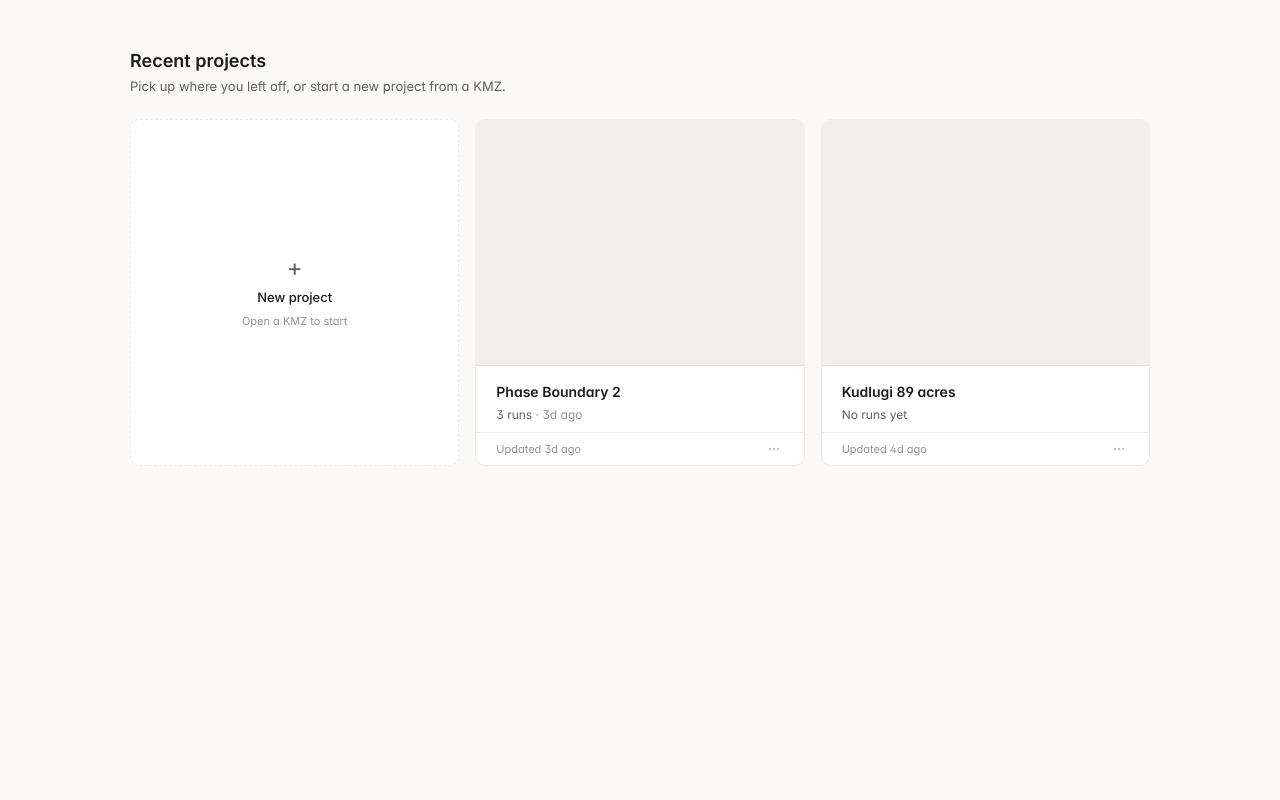
RecentsView › SP3 — ⋯ menu + Rename / Delete dialogs › ⋯ → Rename opens the Rename dialog with the current name pre-filled
Click the button named "More actions for Phase Boundary 2" at (774, 449), box [764, 439, 784, 459]
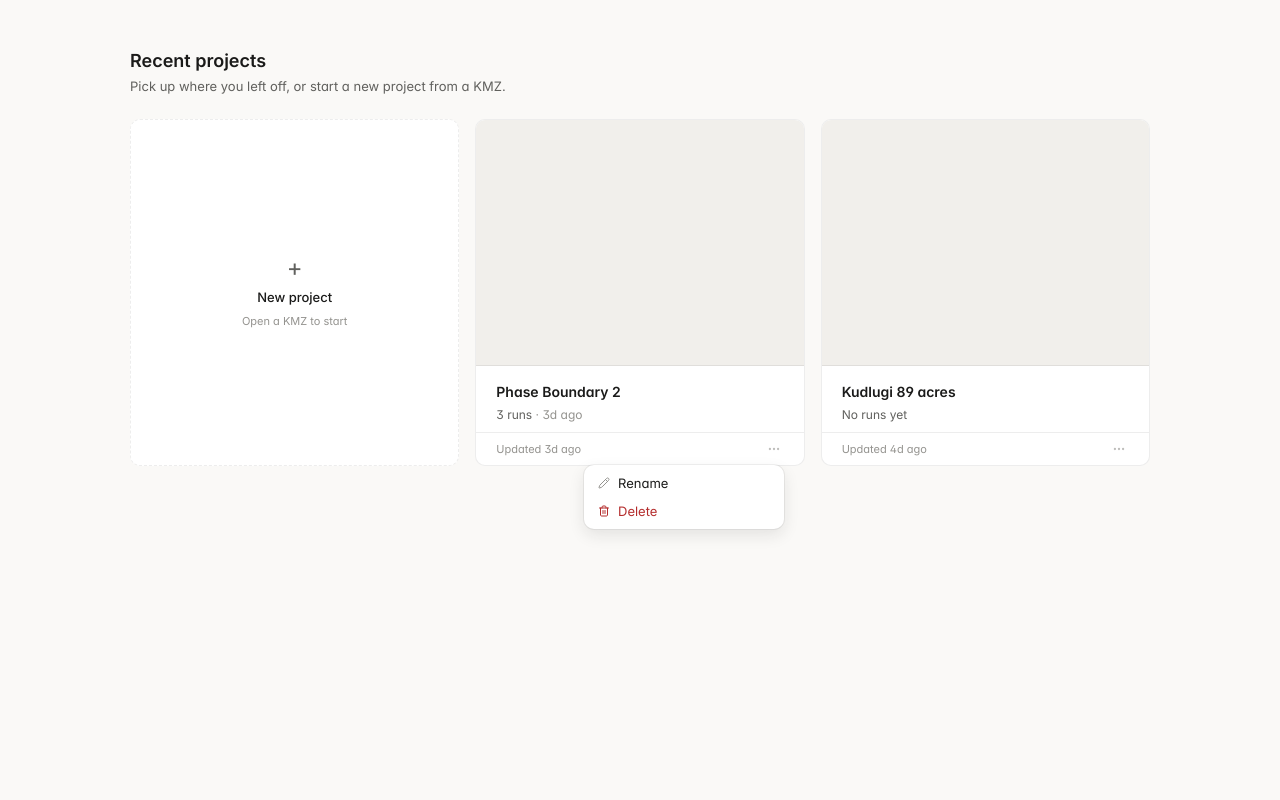
Click the menu item "Rename" at (633, 483), box [598, 475, 668, 491]
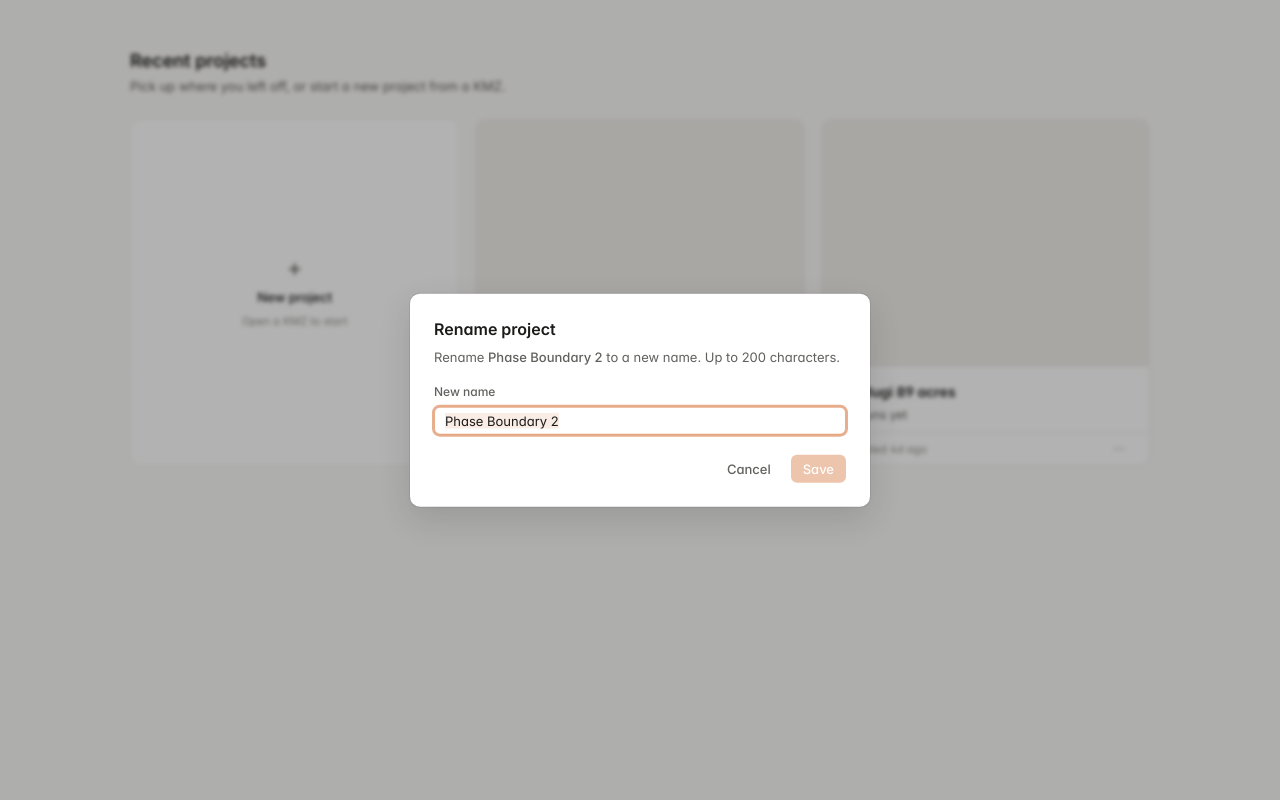
Result: the heading "Rename project" is shown at [434, 319, 556, 339]
Result: the field labelled "New name" holds "Phase Boundary 2" at [434, 406, 846, 434]
